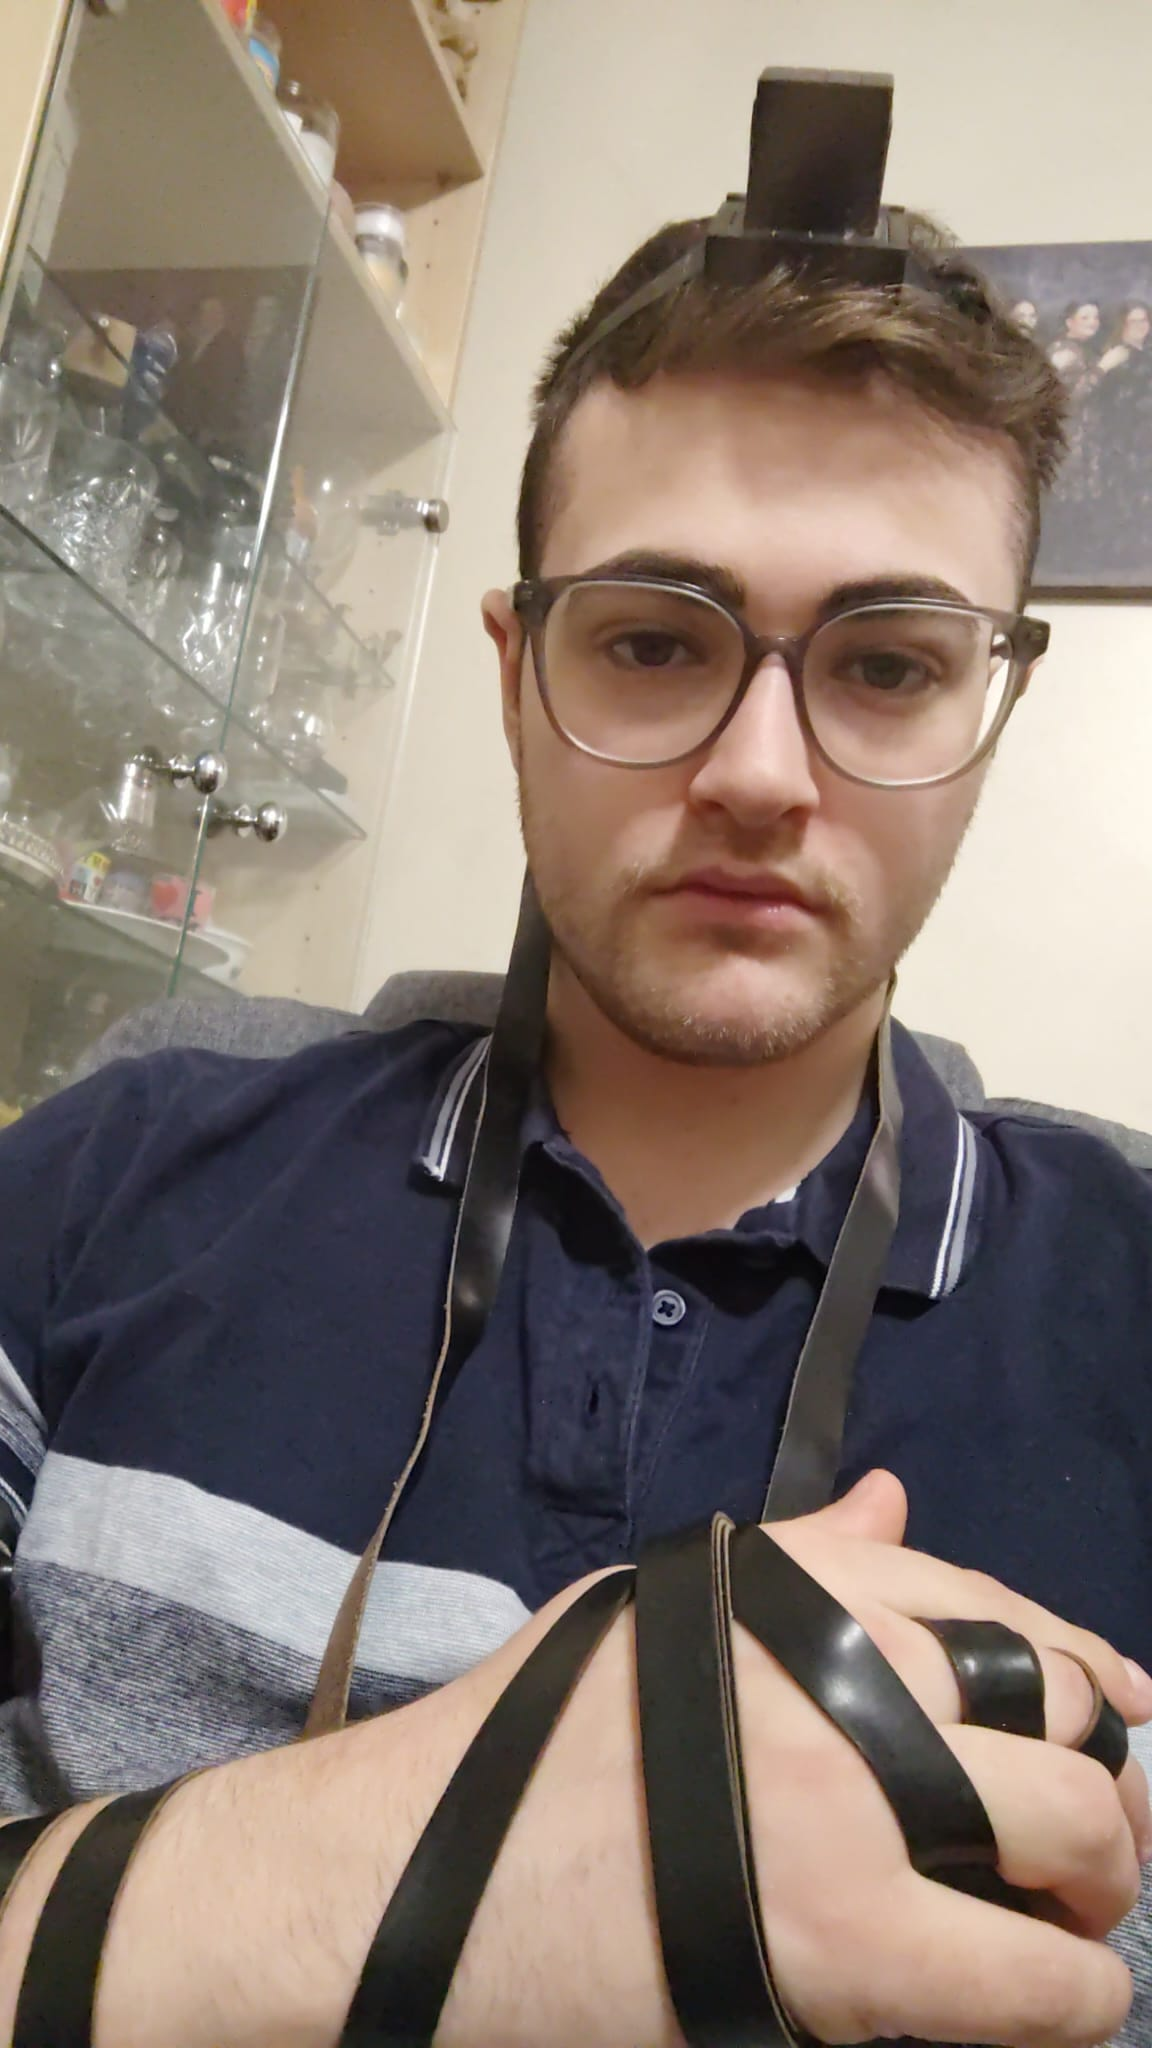tefillin: (703, 65, 916, 309)
